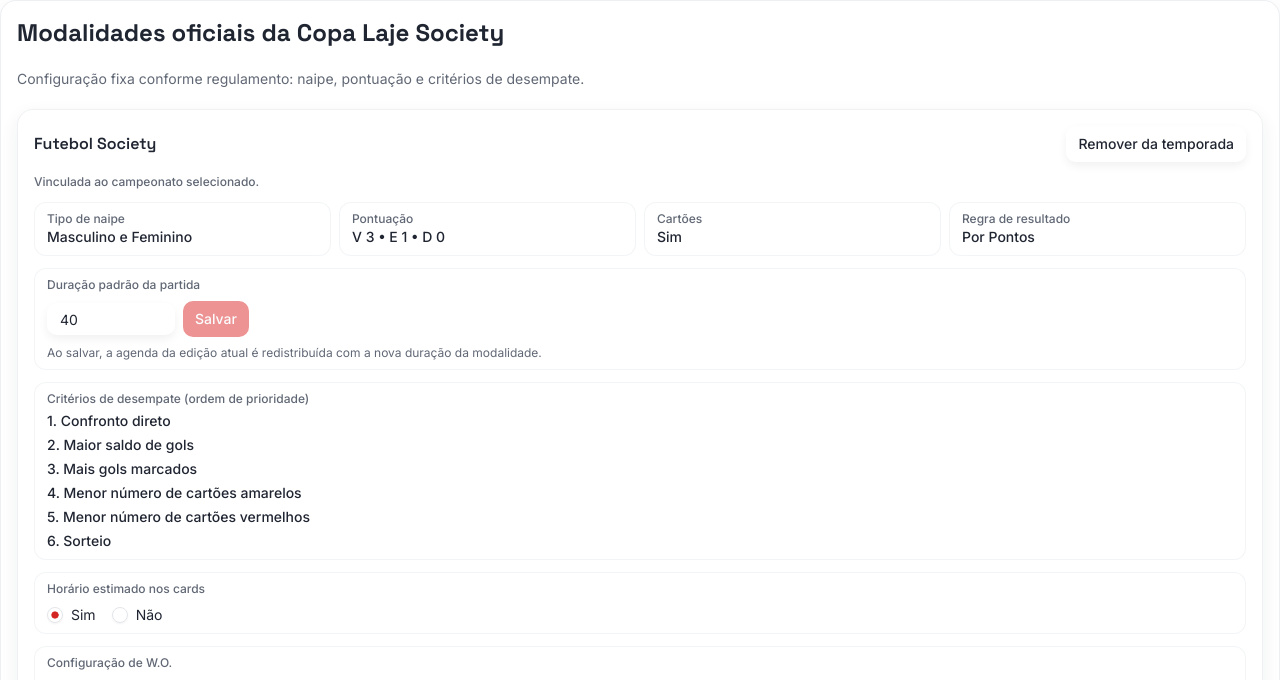
Test: AdminSports › mantém a duração salva visível e refaz as modalidades após salvar
The width and height of the screenshot is (1280, 680).
Replace the text in the number field showing "40" with "45" at (111, 319), box [47, 303, 175, 335]
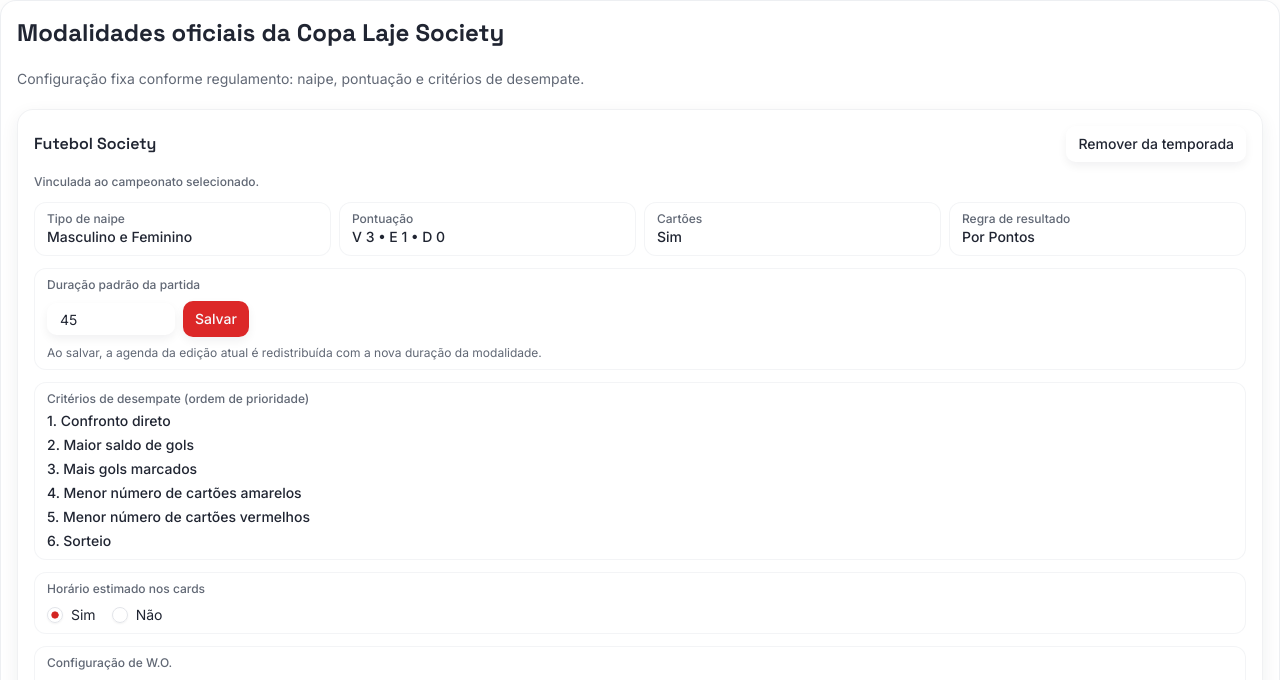
Click the button "Salvar" below "Duração padrão da partida" at (216, 319), box [183, 301, 249, 337]
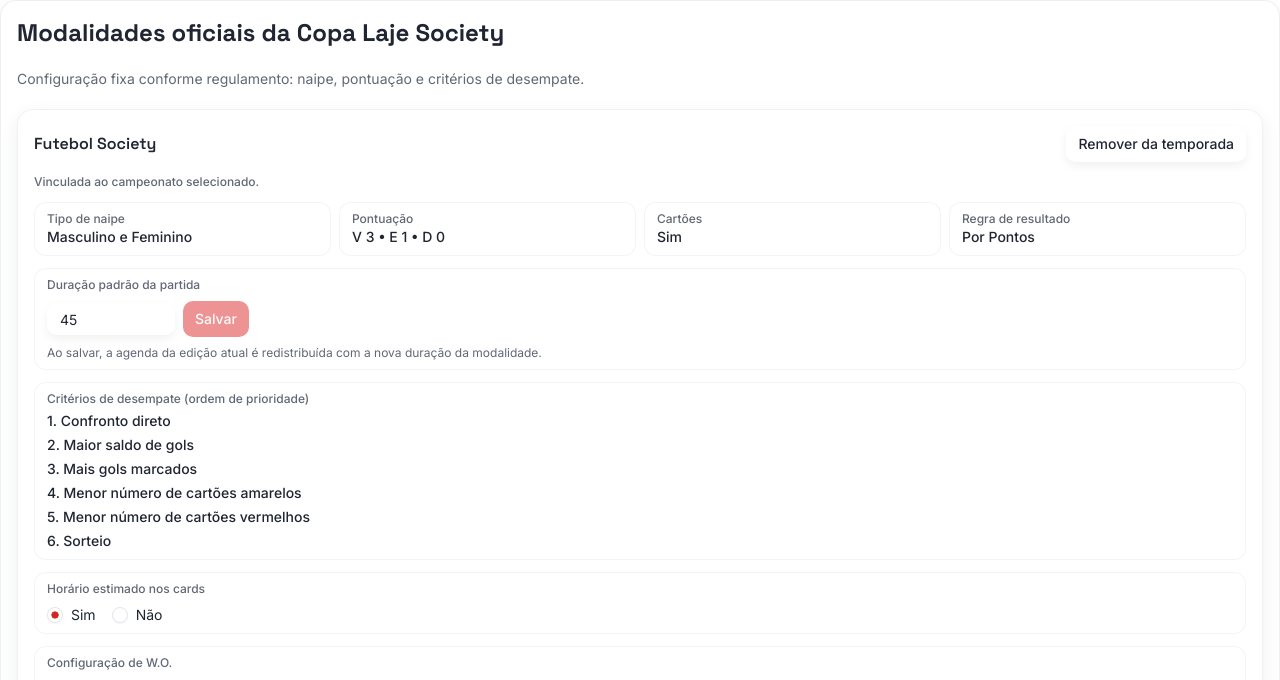
Result: the button "Salvar" below "Duração padrão da partida" is disabled at [183, 301, 249, 337]
